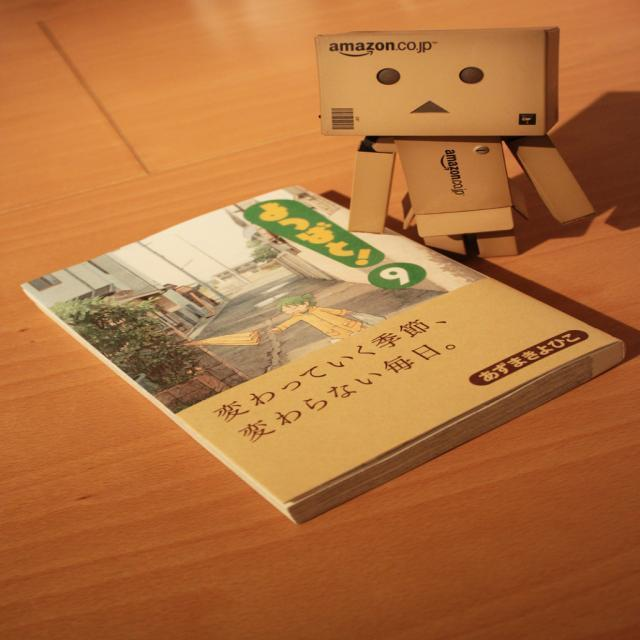book: (20, 184, 630, 522)
